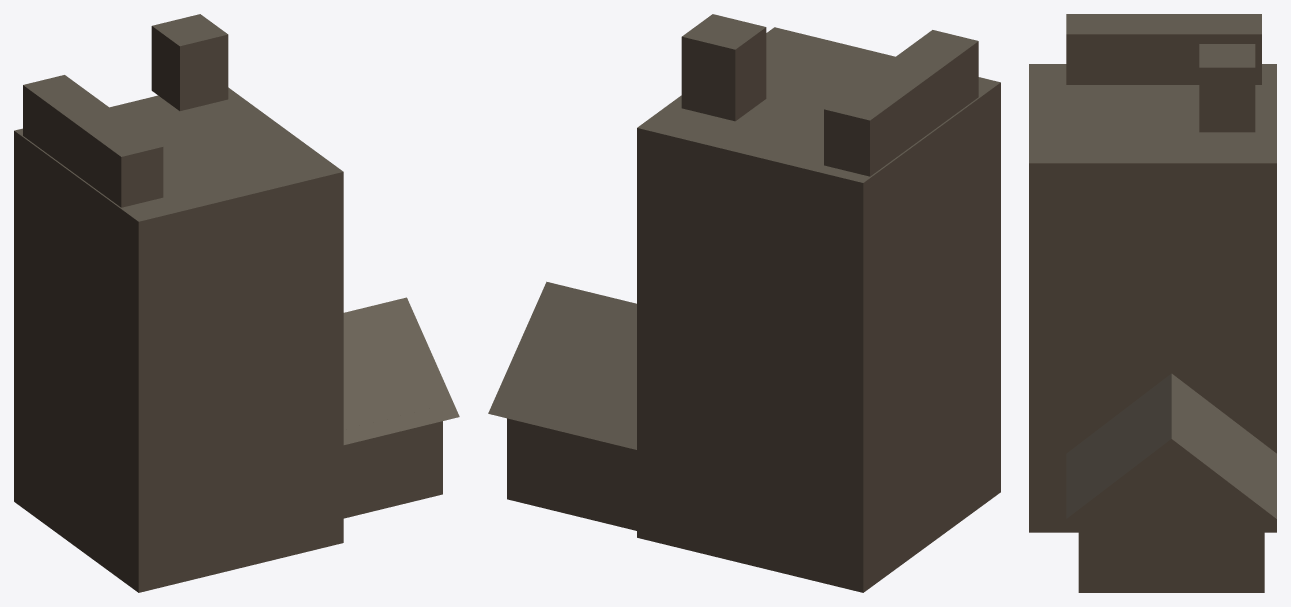
Rendered from rw-lookout-house.far-facades-v3.lod2.glb.
3 views of the same model, side by side, from view 1: azimuth 30°, elevation 25°; view 2: azimuth 150°, elevation 25°; view 3: azimuth 270°, elevation 25° (orthographic). The views are drawn at different scales.
Parts seen in each view (by area): view 1: rw-lookout-house; view 2: rw-lookout-house; view 3: rw-lookout-house.
Boxes of the visible parts, x1,y1,x2,y2 form: rw-lookout-house: (14,14,459,592); rw-lookout-house: (488,14,1000,592); rw-lookout-house: (1029,14,1276,592).
Size of the model in its own units: 12.6 by 16.05 by 8.
